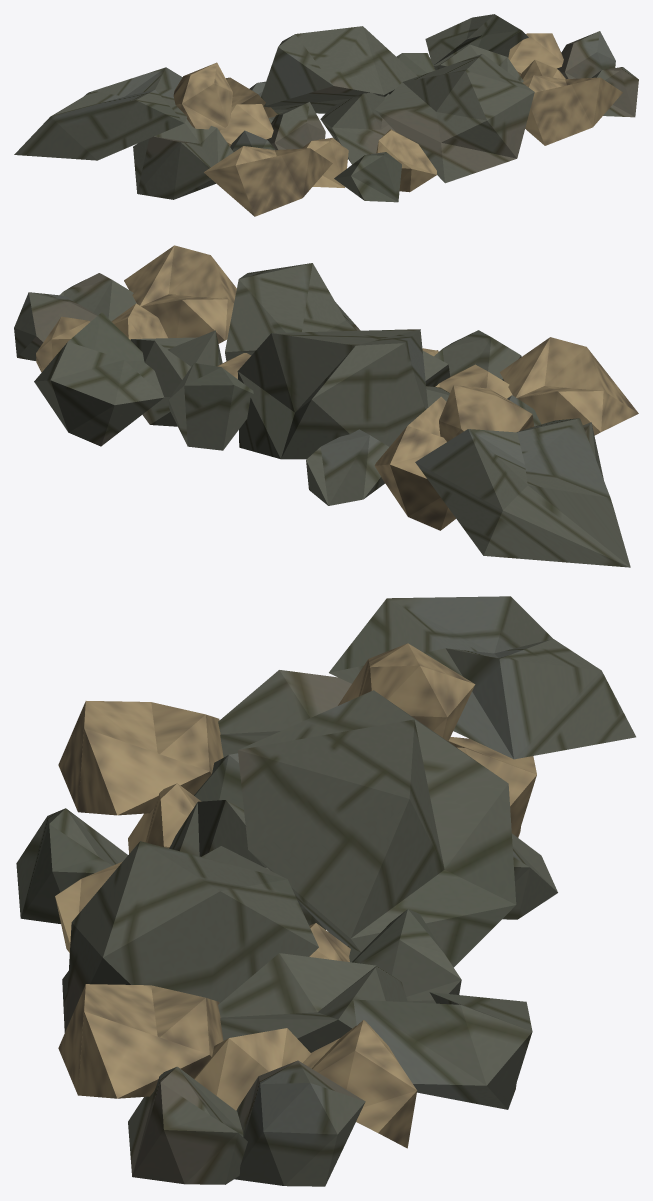
The model's file is Rubble.fbx.
3 renders of one model, top to bottom at view 1: azimuth 30°, elevation 25°; view 2: azimuth 150°, elevation 25°; view 3: azimuth 270°, elevation 25°, orthographic. The views are drawn at different scales.
Parts seen in each view (by area): view 1: rubble9, rubble6, rubble12, rubble11, rubble4, rubble16, rubble3, rubble13, rubble21, rubble23, rubble14, rubble2 (+10 smaller); view 2: rubble12, rubble6, rubble21, rubble11, rubble9, rubble16, rubble22, rubble8, rubble10, rubble18, rubble13, rubble17 (+6 smaller); view 3: rubble6, rubble9, rubble12, rubble16, rubble11, rubble21, rubble17, rubble18, rubble20, rubble15, rubble23, rubble13 (+10 smaller).
Boxes of the visible parts, left/top/right/bottom form: rubble9: left=375, top=54, right=534, bottom=183; rubble6: left=261, top=26, right=417, bottom=113; rubble12: left=14, top=67, right=186, bottom=160; rubble11: left=204, top=146, right=332, bottom=216; rubble4: left=133, top=119, right=233, bottom=199; rubble16: left=522, top=75, right=622, bottom=145; rubble3: left=320, top=92, right=394, bottom=164; rubble13: left=173, top=62, right=232, bottom=129; rubble21: left=425, top=14, right=528, bottom=67; rubble23: left=334, top=152, right=401, bottom=202; rubble14: left=376, top=129, right=436, bottom=192; rubble2: left=266, top=102, right=325, bottom=149; rubble12: left=415, top=418, right=630, bottom=567; rubble6: left=237, top=329, right=428, bottom=459; rubble21: left=34, top=312, right=164, bottom=446; rubble11: left=500, top=337, right=638, bottom=435; rubble9: left=225, top=263, right=360, bottom=361; rubble16: left=124, top=245, right=236, bottom=343; rubble22: left=168, top=363, right=253, bottom=450; rubble8: left=374, top=396, right=455, bottom=530; rubble10: left=306, top=429, right=388, bottom=505; rubble18: left=130, top=330, right=222, bottom=426; rubble13: left=439, top=385, right=534, bottom=441; rubble17: left=14, top=292, right=97, bottom=360; rubble6: left=238, top=690, right=516, bottom=967; rubble9: left=62, top=841, right=318, bottom=1032; rubble12: left=329, top=596, right=635, bottom=759; rubble16: left=58, top=984, right=223, bottom=1098; rubble11: left=58, top=701, right=223, bottom=815; rubble21: left=353, top=992, right=532, bottom=1109; rubble17: left=234, top=1060, right=365, bottom=1186; rubble18: left=218, top=953, right=407, bottom=1052; rubble20: left=128, top=1066, right=247, bottom=1184; rubble15: left=303, top=1020, right=417, bottom=1148; rubble23: left=16, top=808, right=127, bottom=923; rubble13: left=338, top=643, right=475, bottom=740.
Bounding box in the file's own units: 45.29 × 8.69 × 22.91.
